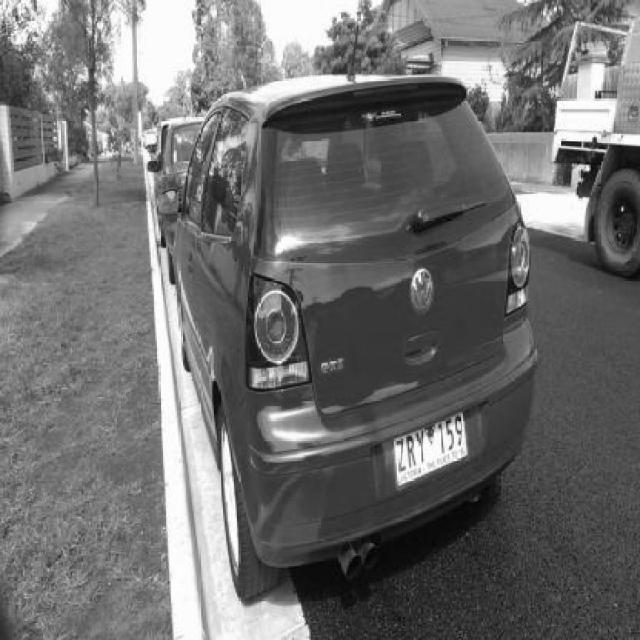car: (148, 79, 569, 598)
license-plate: (389, 402, 478, 491)
